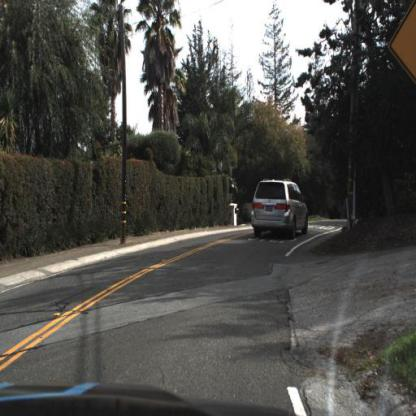car: (238, 178, 316, 242)
